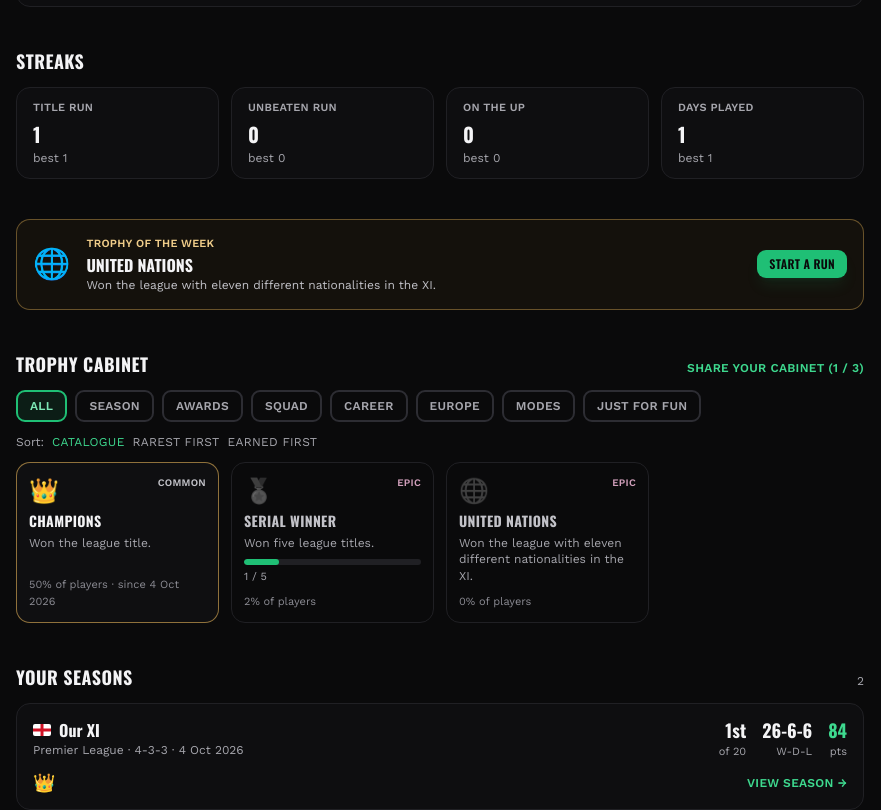
Test: ProfilePage › filters the cabinet by category
(page scrolled)
Click the button "Career".
click(369, 406)  # box [330,390,408,422]
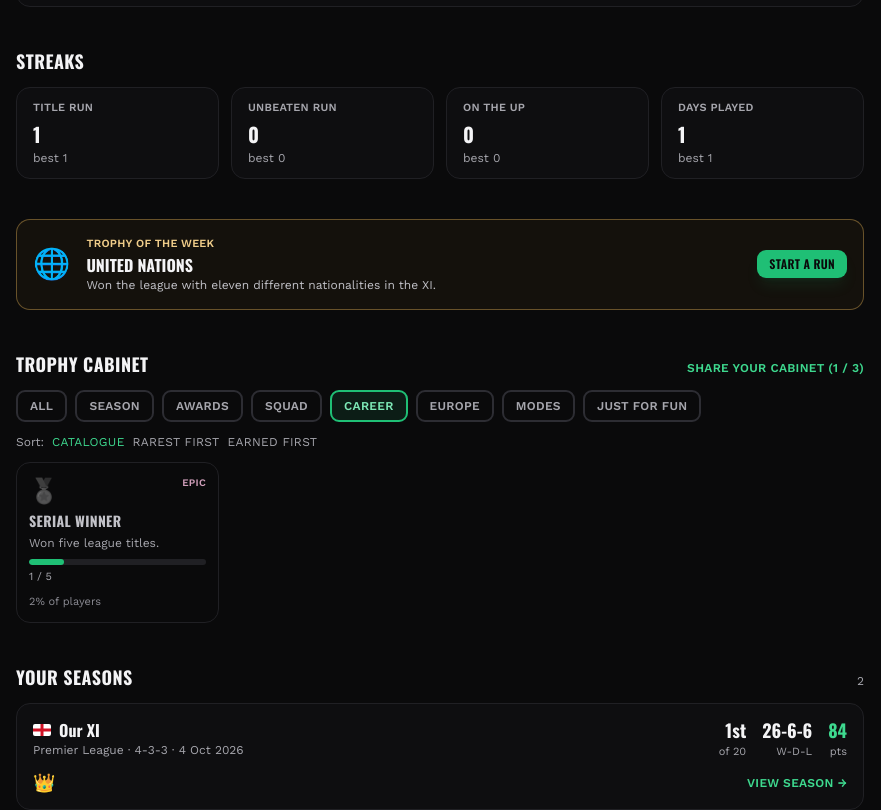
Expected: the element with test id "trophy-serial-winner" is shown, [16,462,219,623]
Now the element with test id "trophy-champions" is gone
